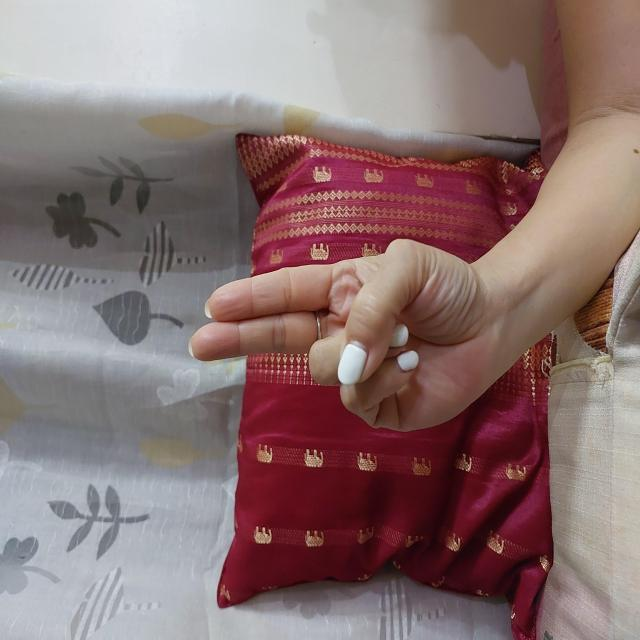U: (205, 185, 405, 494)
